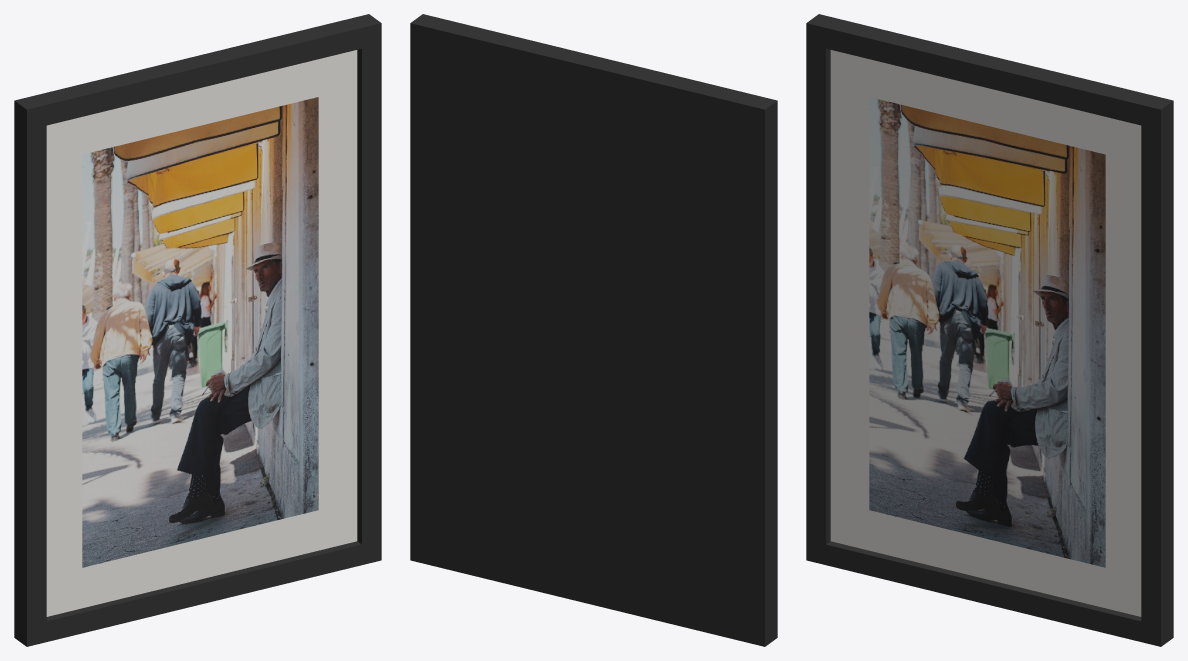
File: markiserna-40.gltf
3 views of the same model, side by side, from view 1: azimuth 30°, elevation 25°; view 2: azimuth 150°, elevation 25°; view 3: azimuth 330°, elevation 25° (orthographic).
Visible parts, largest first — view 1: tavla; view 2: tavla; view 3: tavla.
Part boxes in pixels (bbox=[...]): tavla: bbox=[14, 14, 381, 646]; tavla: bbox=[410, 14, 777, 646]; tavla: bbox=[806, 14, 1173, 646].
Bounding box in the file's own units: 0.3593 × 0.52 × 0.022.
Materials: 3 (1 with a texture image).
